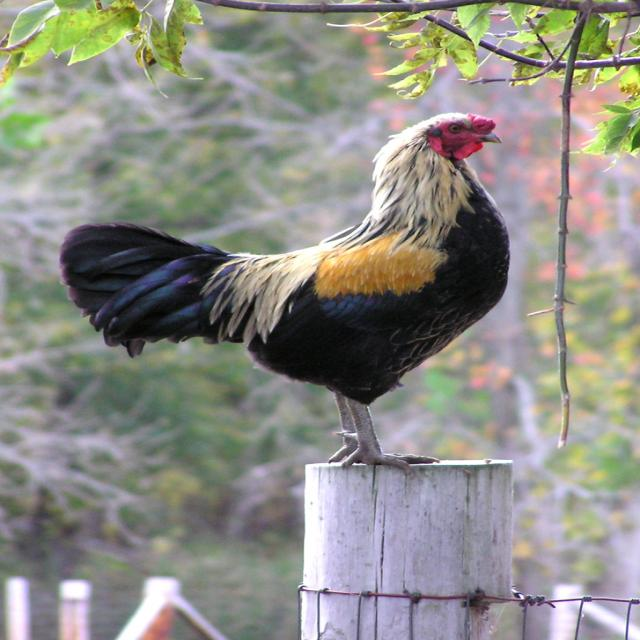Chicken: (62, 120, 503, 474)
